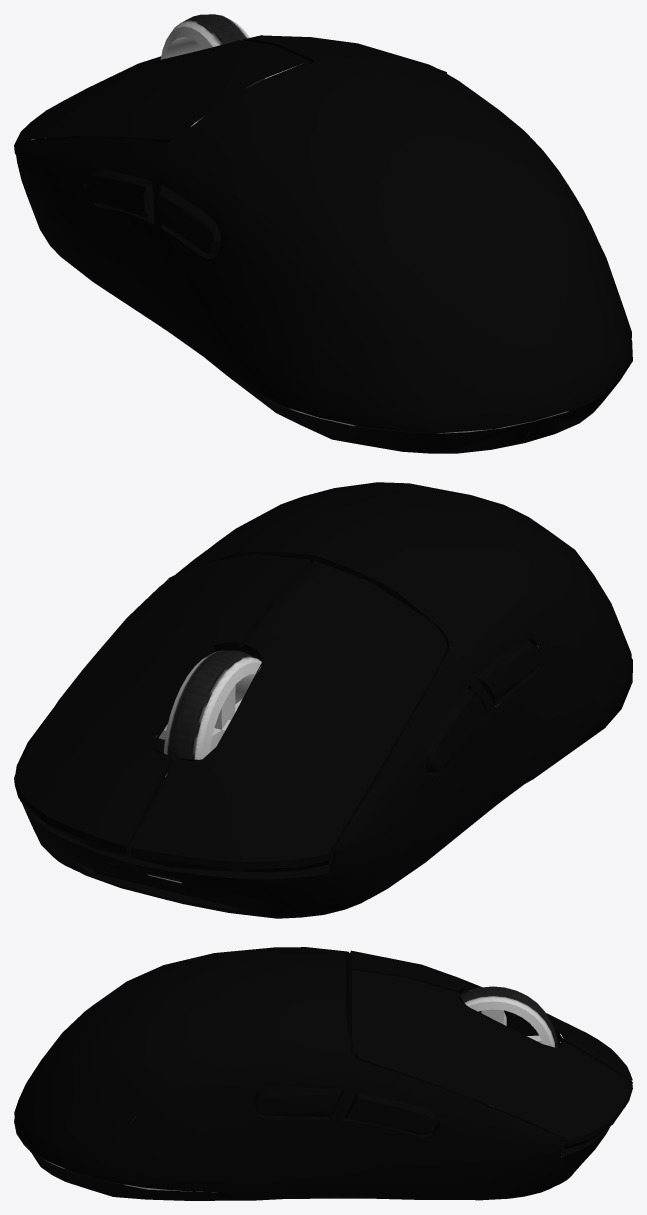
The model's file is mouse_and_keyboard.glb.
The picture shows the model from 3 angles, top to bottom: view 1: azimuth 30°, elevation 25°; view 2: azimuth 150°, elevation 25°; view 3: azimuth 270°, elevation 25°; orthographic projection. The views are drawn at different scales.
Parts seen in each view (by area): view 1: Mouse_body_low.005, Mouse_Click_low.005, Mouse_bottom_flat_low.005, Mouse_side_low.005, Mouse_wheel_low.005; view 2: Mouse_Click_low.005, Mouse_body_low.005, Mouse_wheel_low.005, Mouse_side_low.005, Mouse_bottom_flat_low.005; view 3: Mouse_body_low.005, Mouse_Click_low.005, Mouse_side_low.005, Mouse_bottom_flat_low.005, Mouse_wheel_low.005.
Boxes of the visible parts, bbox=[...] form: Mouse_body_low.005: bbox=[15, 57, 631, 432]; Mouse_Click_low.005: bbox=[14, 35, 446, 154]; Mouse_bottom_flat_low.005: bbox=[207, 340, 632, 453]; Mouse_side_low.005: bbox=[83, 169, 220, 255]; Mouse_wheel_low.005: bbox=[160, 14, 300, 126]; Mouse_Click_low.005: bbox=[14, 554, 449, 872]; Mouse_body_low.005: bbox=[15, 482, 632, 915]; Mouse_wheel_low.005: bbox=[155, 650, 261, 777]; Mouse_side_low.005: bbox=[426, 639, 541, 772]; Mouse_bottom_flat_low.005: bbox=[73, 596, 632, 918]; Mouse_body_low.005: bbox=[14, 947, 610, 1198]; Mouse_Click_low.005: bbox=[349, 950, 632, 1149]; Mouse_side_low.005: bbox=[254, 1087, 437, 1135]; Mouse_bottom_flat_low.005: bbox=[14, 1098, 561, 1200]; Mouse_wheel_low.005: bbox=[460, 986, 557, 1105].
Size of the model in its own units: 0.0626 by 0.0397 by 0.1247.
1 material, 1 textured.
